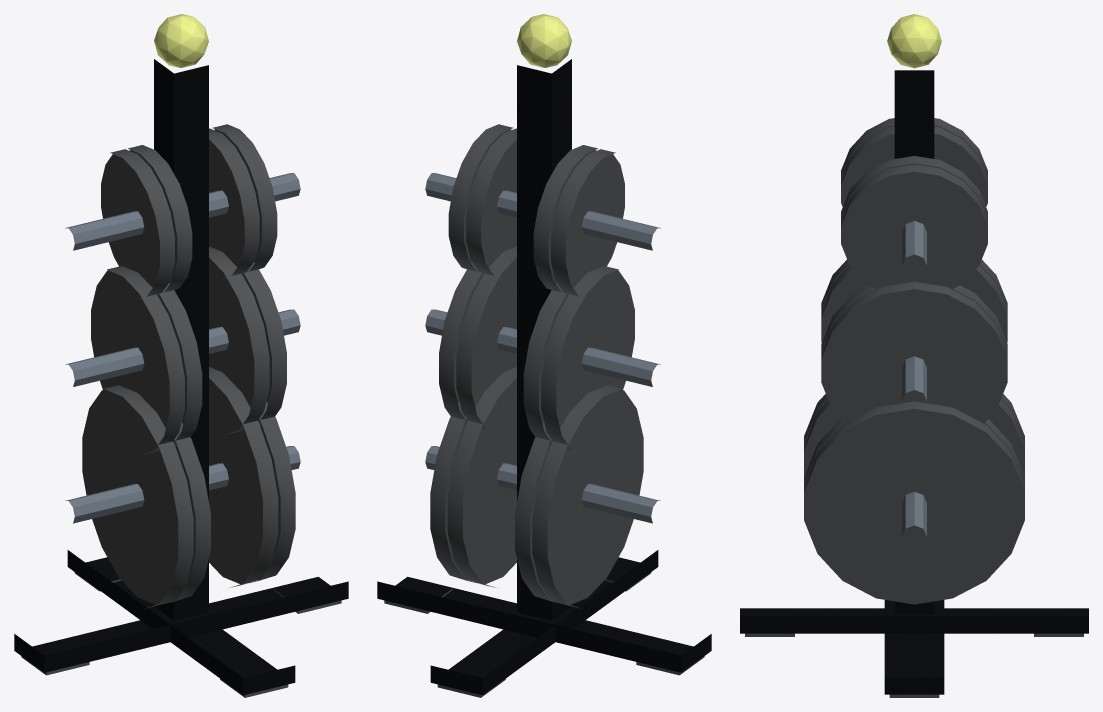
Rendered from tt_gym_plate_tree.glb.
3 renders of one model, left to right at view 1: azimuth 30°, elevation 25°; view 2: azimuth 150°, elevation 25°; view 3: azimuth 270°, elevation 25°, orthographic.
Parts seen in each view (by area): view 1: Bumper_Plates, Base_Frame, Pegs_Hardware, Ball_Finial, Feet; view 2: Bumper_Plates, Base_Frame, Pegs_Hardware, Ball_Finial, Feet; view 3: Bumper_Plates, Base_Frame, Pegs_Hardware, Ball_Finial, Feet.
Part boxes in pixels (x1,y1,x2,y2): Bumper_Plates: (82,124,295,608); Base_Frame: (14,59,348,695); Pegs_Hardware: (65,173,300,523); Ball_Finial: (154,14,208,67); Feet: (21,572,341,697); Bumper_Plates: (430,124,643,608); Base_Frame: (377,59,711,695); Pegs_Hardware: (425,173,660,523); Ball_Finial: (517,14,571,67); Feet: (384,572,704,697); Bumper_Plates: (804,118,1024,604); Base_Frame: (740,70,1088,694); Pegs_Hardware: (902,221,926,535); Ball_Finial: (887,14,941,68); Feet: (745,633,1083,697).
Size of what is drawn, in the model's own units: 0.7 by 1.35 by 0.7.
4 materials, 2 textured.
